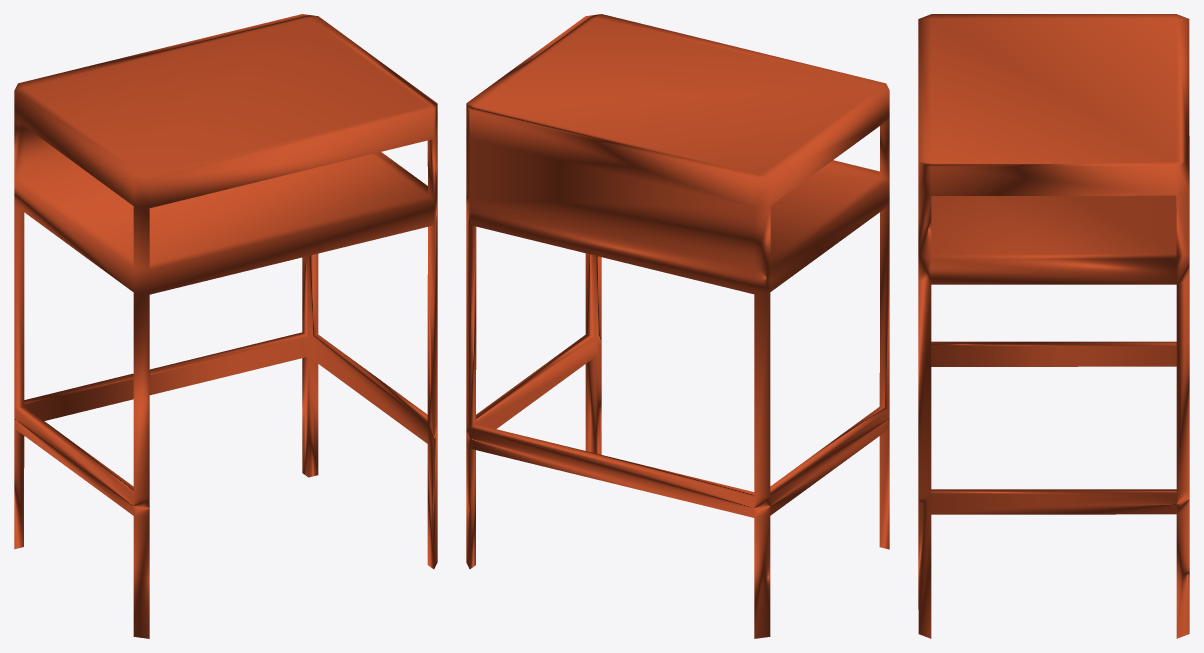
File: mesa.obj
3 renders of one model, left to right at view 1: azimuth 30°, elevation 25°; view 2: azimuth 150°, elevation 25°; view 3: azimuth 270°, elevation 25°, orthographic. The views are drawn at different scales.
Parts seen in each view (by area): view 1: Cube_Cube; view 2: Cube_Cube; view 3: Cube_Cube.
Boxes of the visible parts, <box> form: Cube_Cube: <box>14,14,437,638</box>; Cube_Cube: <box>466,14,889,638</box>; Cube_Cube: <box>918,14,1189,638</box>.
Size of the model in its own units: 10 by 14.43 by 7.52.
